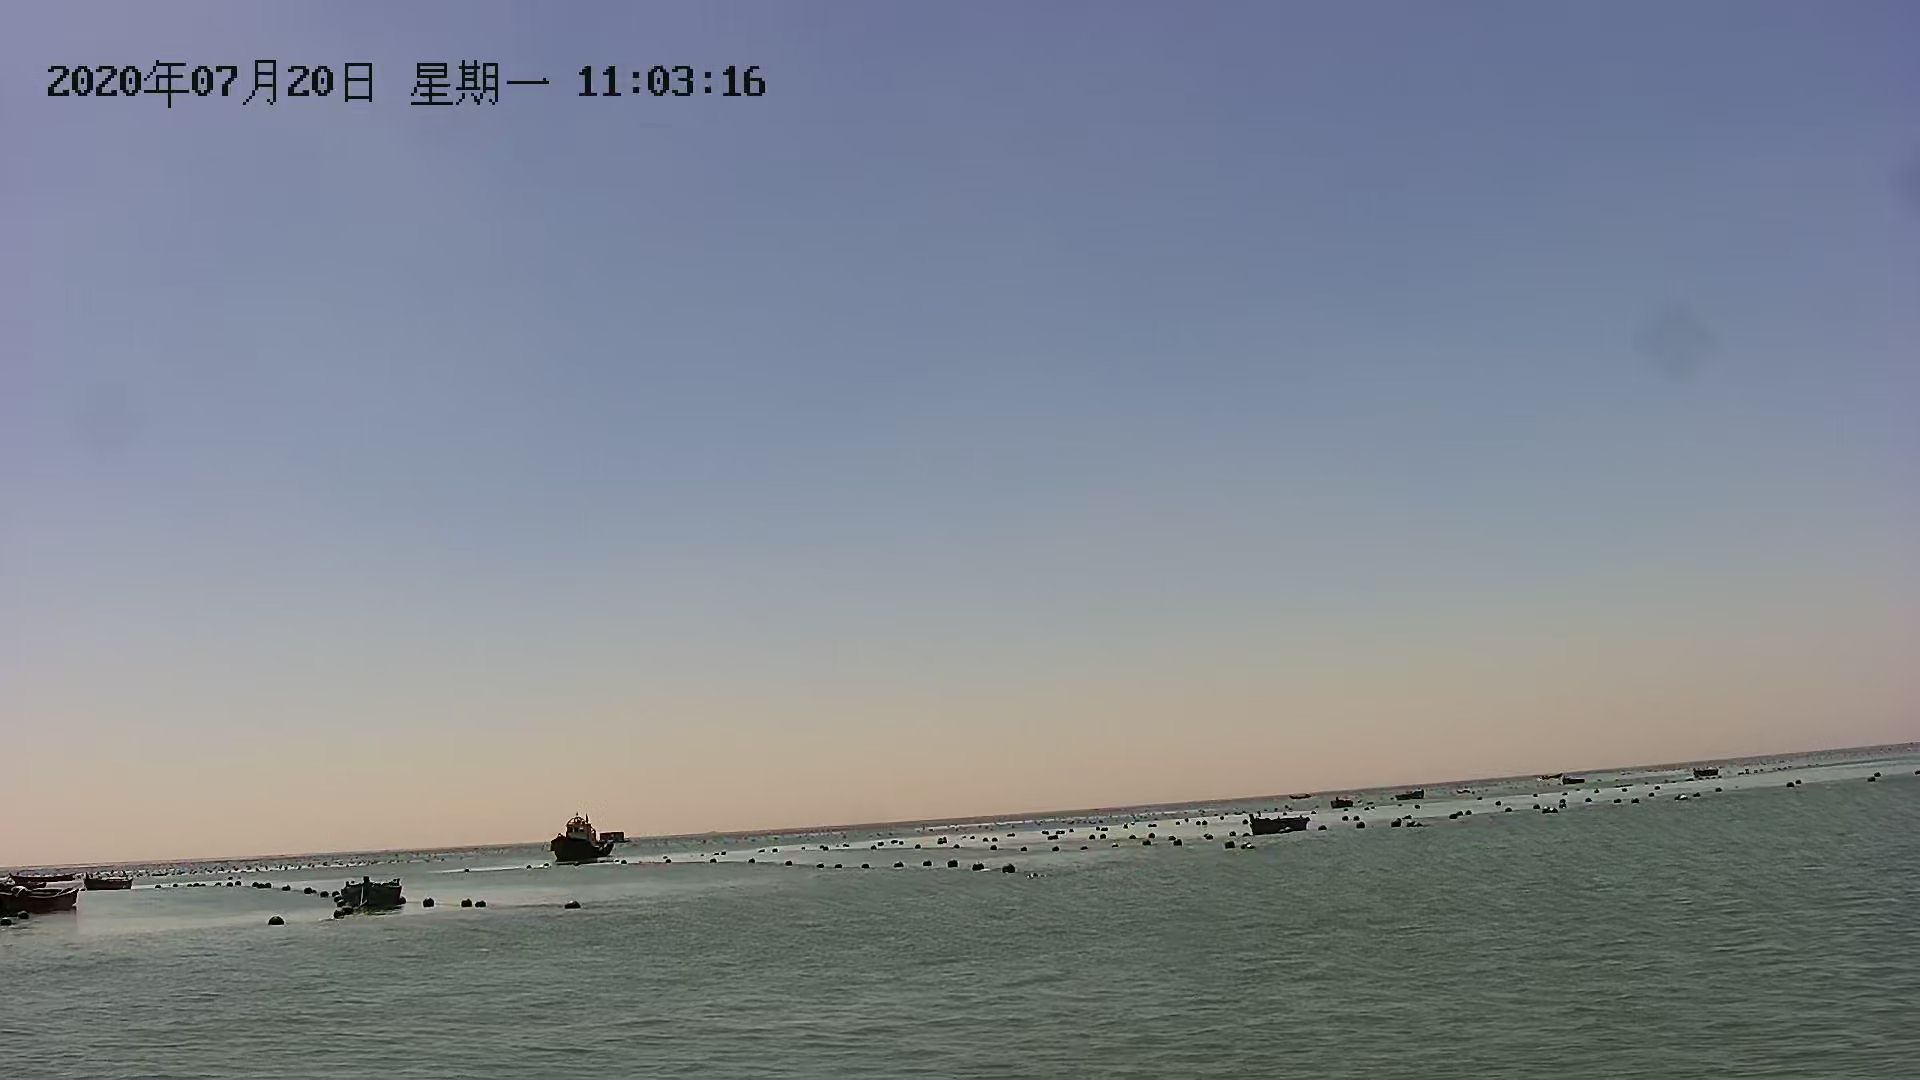ball: (553, 893, 587, 913), (997, 855, 1025, 878), (264, 916, 291, 928)
boat: (334, 868, 411, 916), (5, 884, 74, 920), (1244, 811, 1315, 839), (80, 870, 135, 893)
ship: (545, 810, 615, 869)
